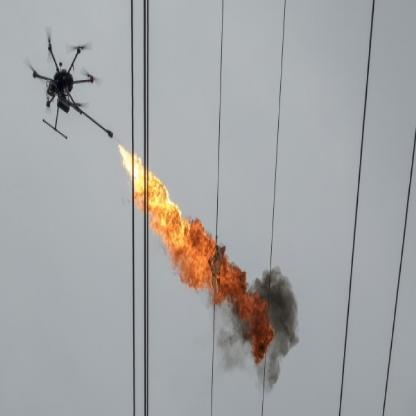drone: (22, 37, 106, 122)
